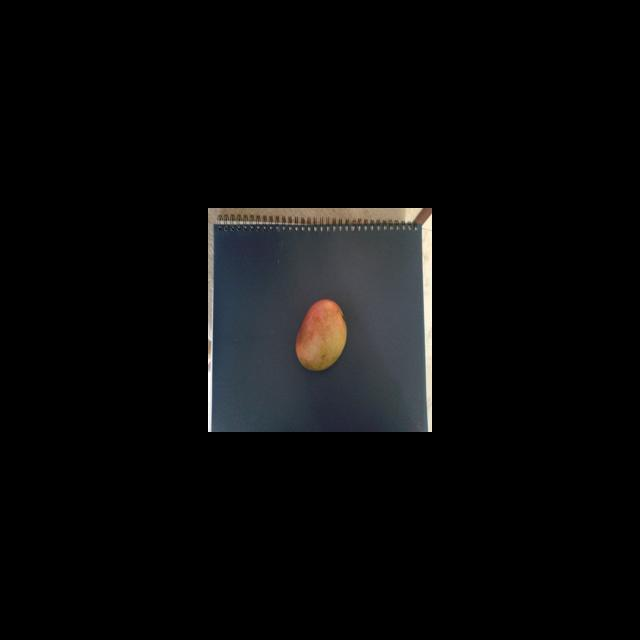Mango: (294, 298, 347, 371)
